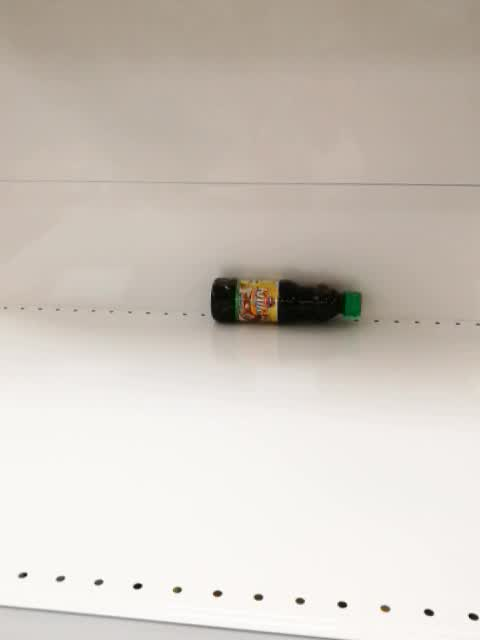cookingoil: (210, 274, 363, 331)
